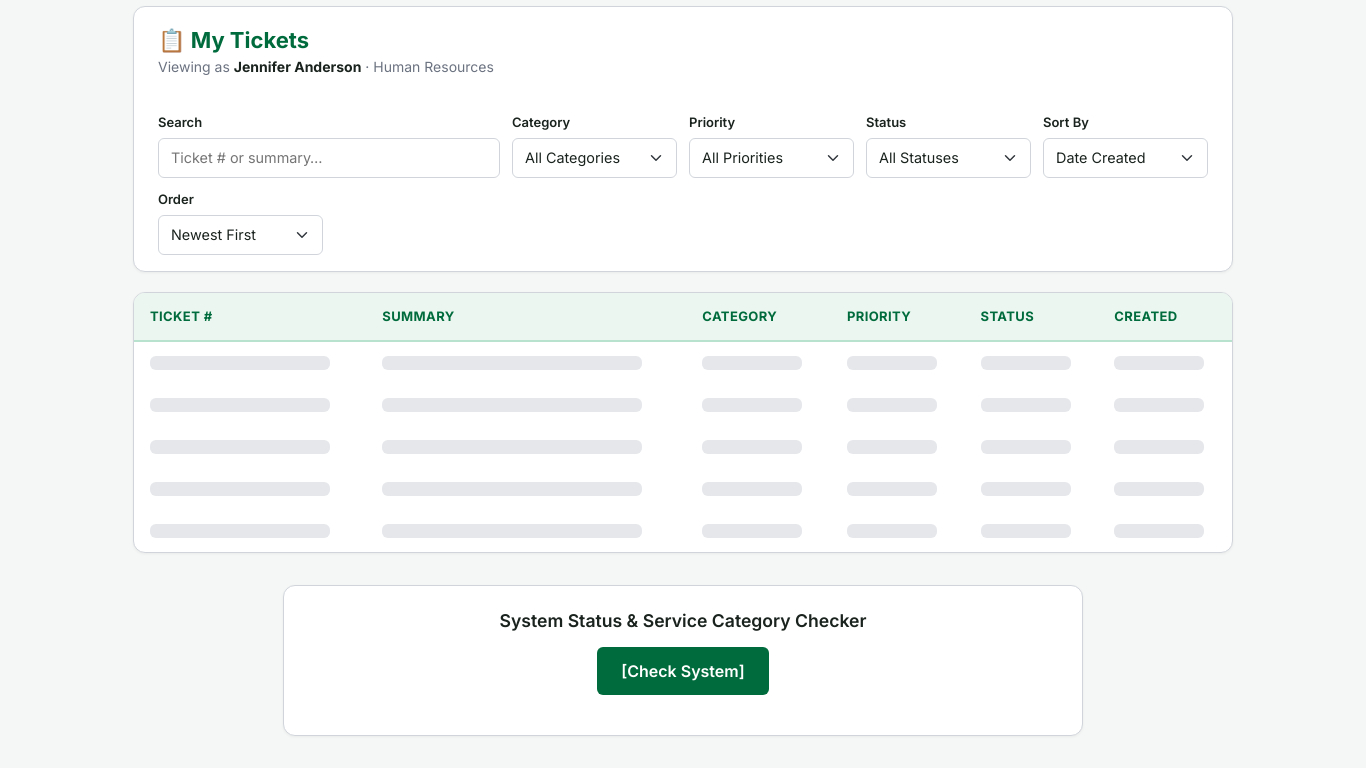
Test: TokTickIT IT Service Desk Component › displays success state with categories on successful API response
The image size is (1366, 768).
(page scrolled)
Click the button "[Check System]": (683, 671) 597,647 -> 769,695
(page scrolled)
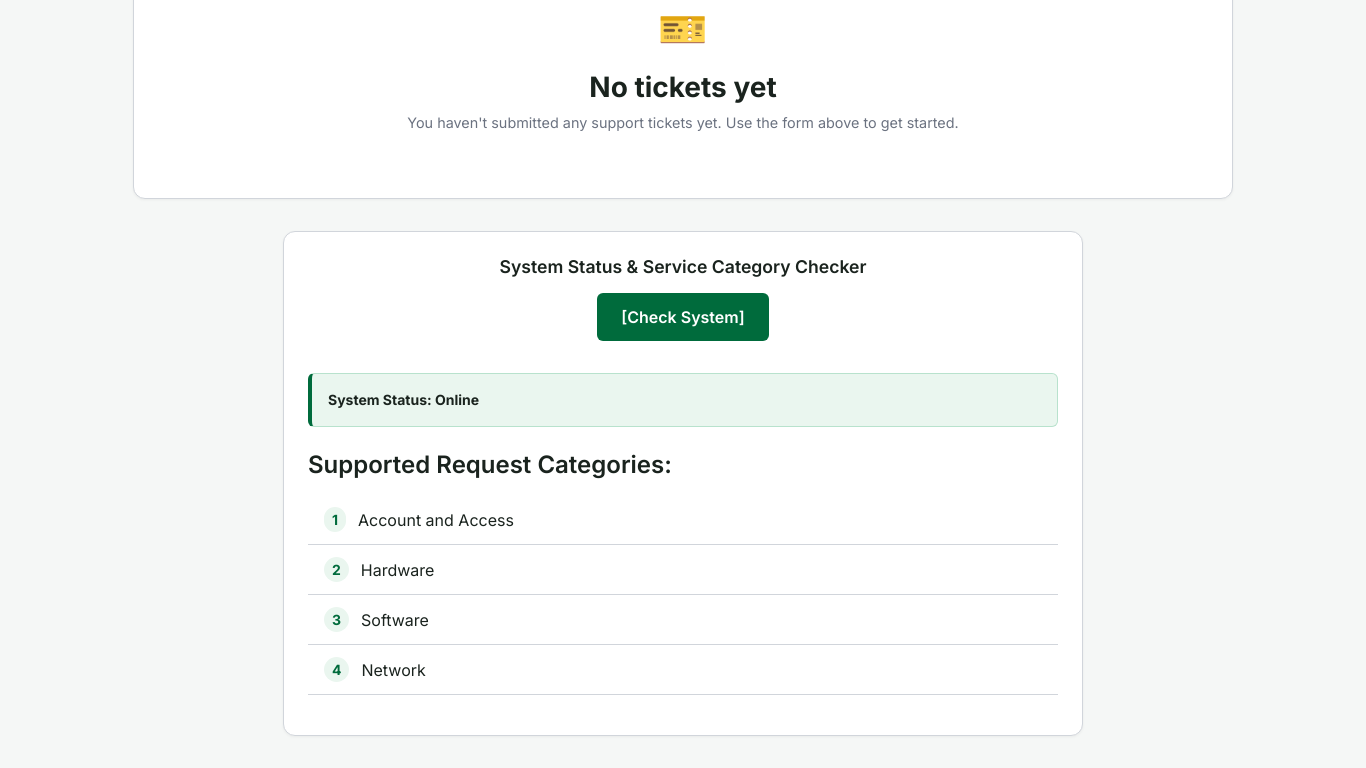
Now the text "System Status: Online" is shown, box 328,391 -> 479,408
Now the heading "Supported Request Categories:" is shown, box 308,450 -> 672,479
